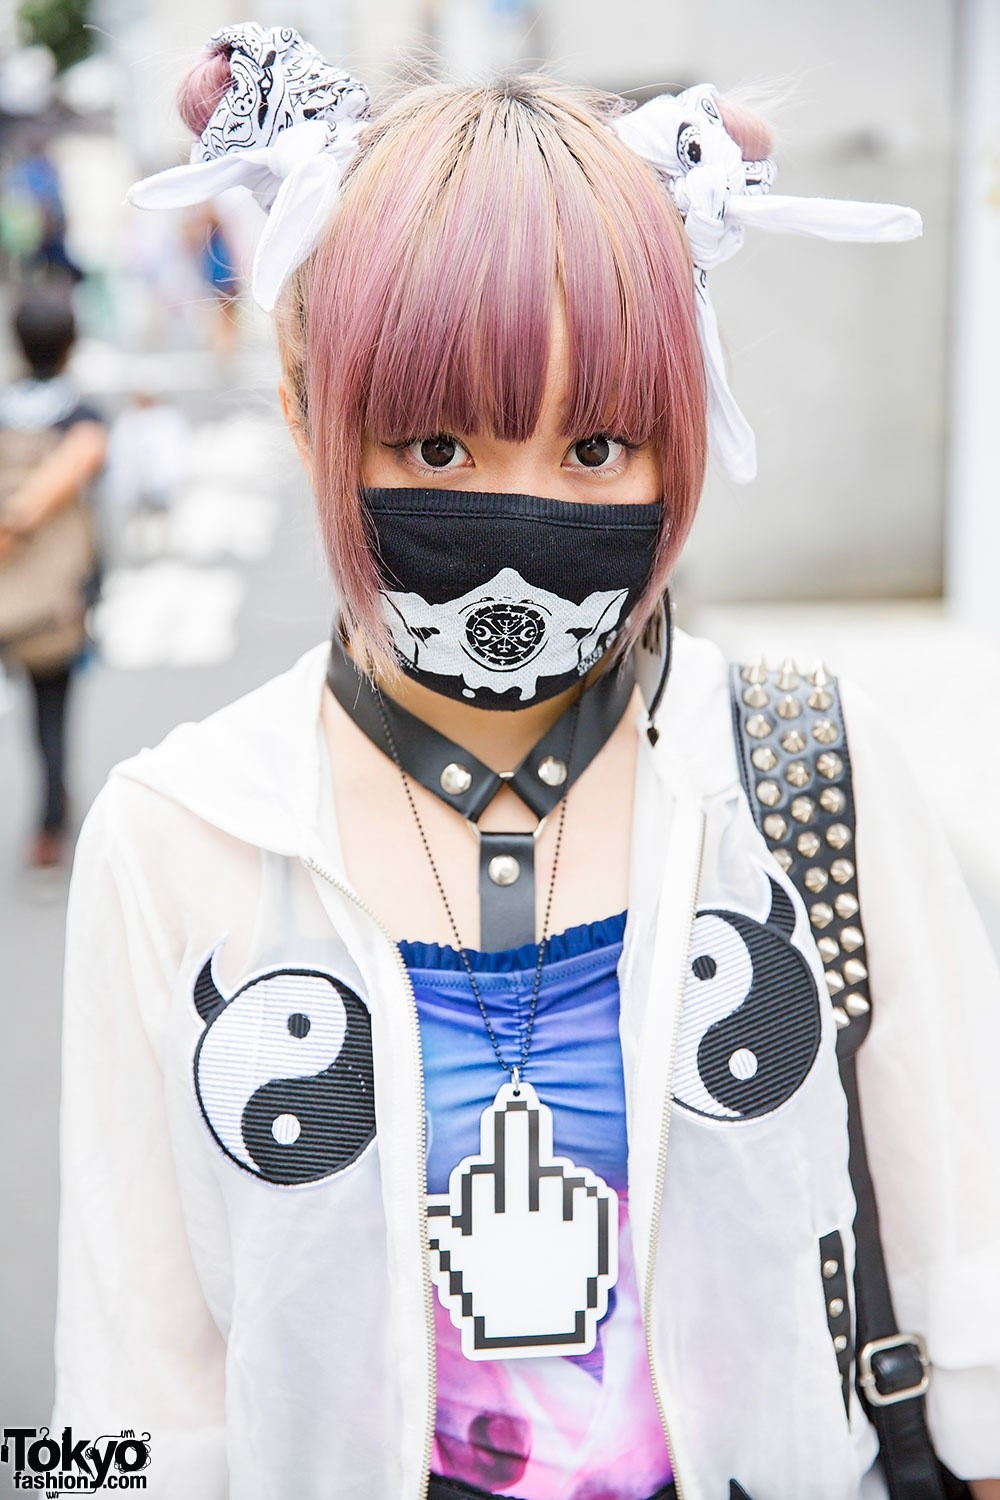face_with_mask: (280, 131, 728, 715)
